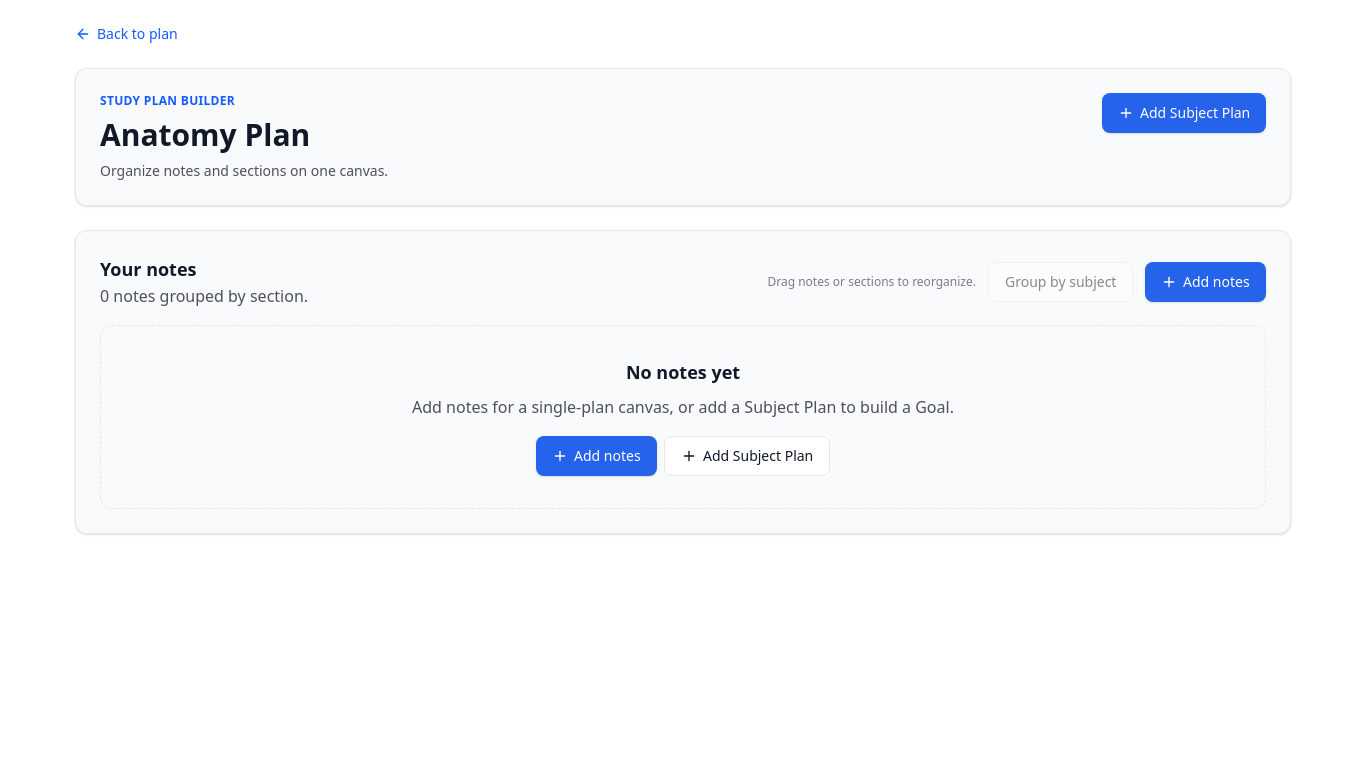
StudyPlanBuilderPageClient › adds the first subject plan from an empty leaf collection and transitions to the goal canvas without an error flash
The image size is (1366, 768).
Click the button "Add Subject Plan" in the row of "Anatomy Plan" at (1184, 113), box x1=1102 y1=93 x2=1266 y2=133
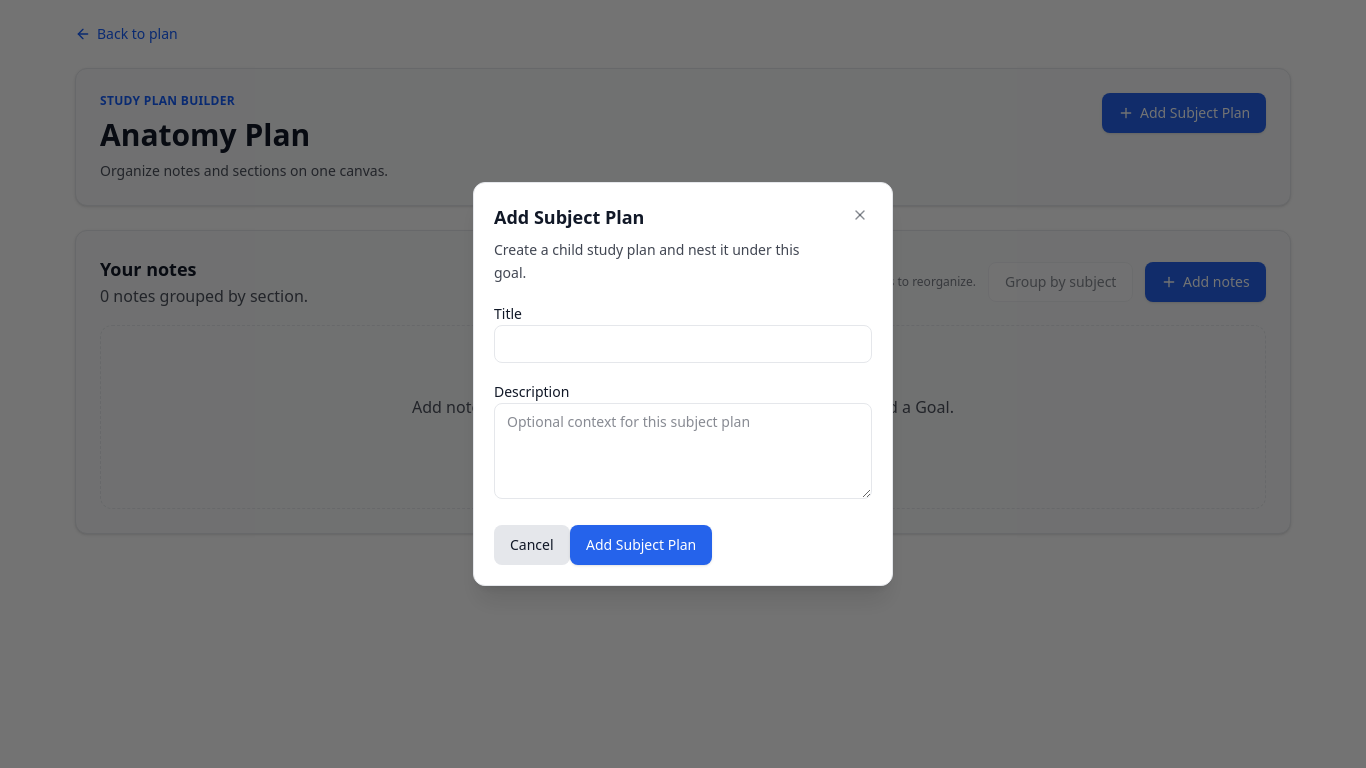
Type "Physiology Plan" into the field labelled "Title" at (683, 344), box x1=494 y1=325 x2=872 y2=363
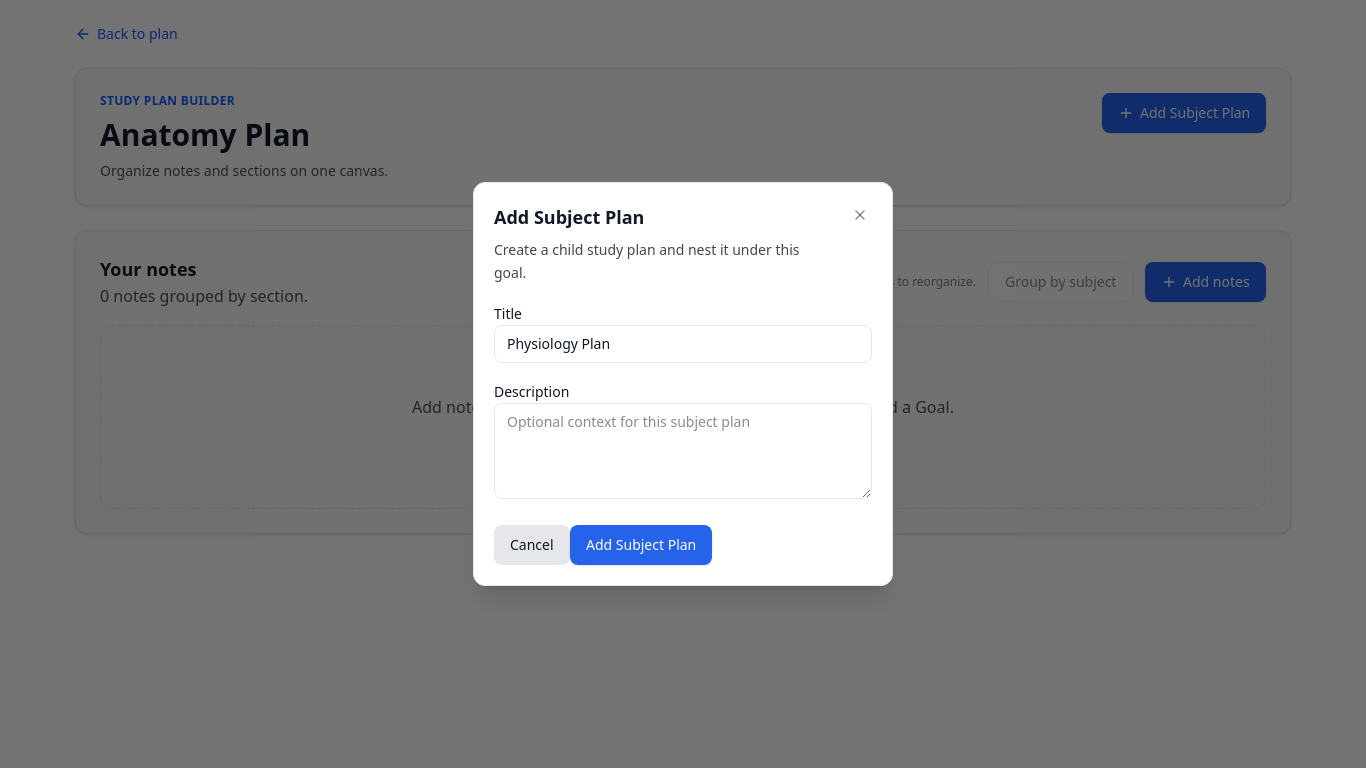
Click the button "Add Subject Plan" at (641, 545), box x1=570 y1=525 x2=712 y2=565
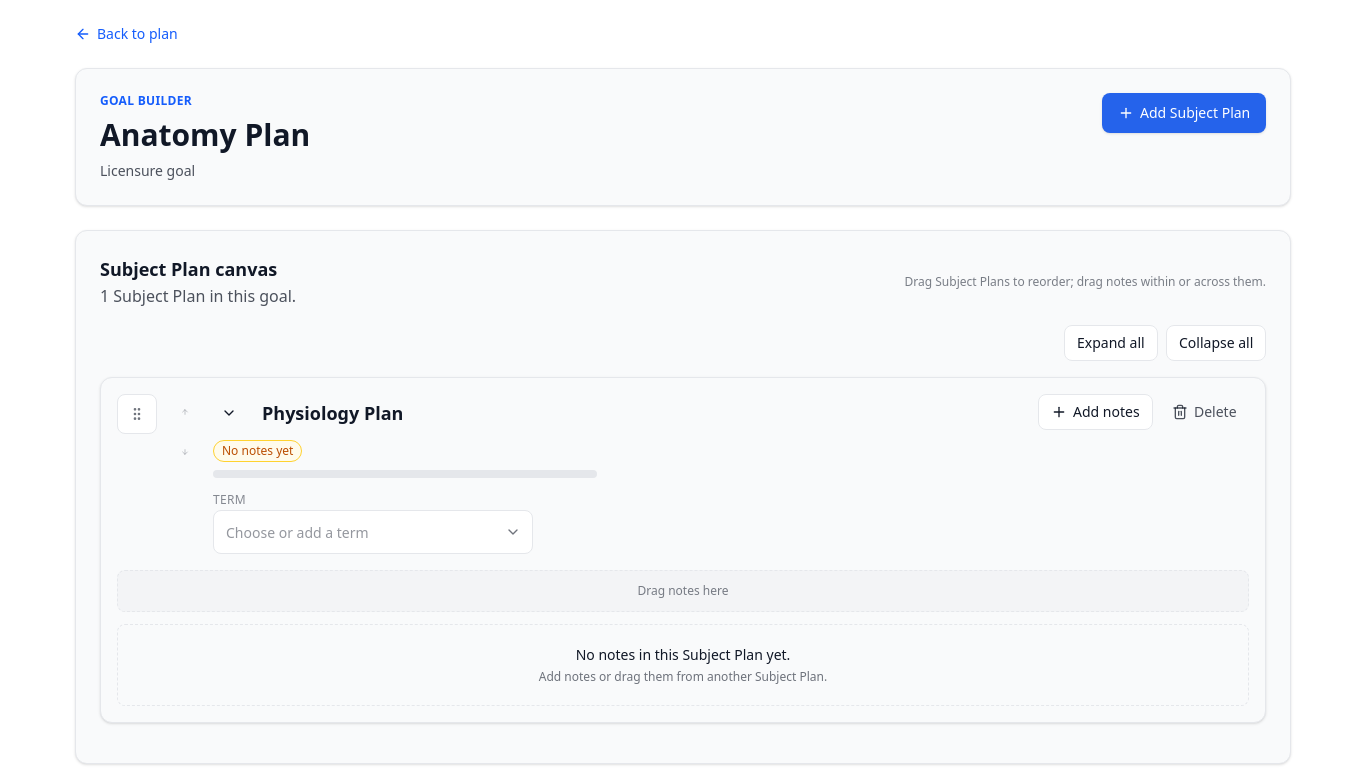
Expected: the heading "Anatomy Plan" is shown, x1=100 y1=117 x2=310 y2=153
Result: the heading "Subject Plan canvas" is shown at x1=100 y1=255 x2=296 y2=283
